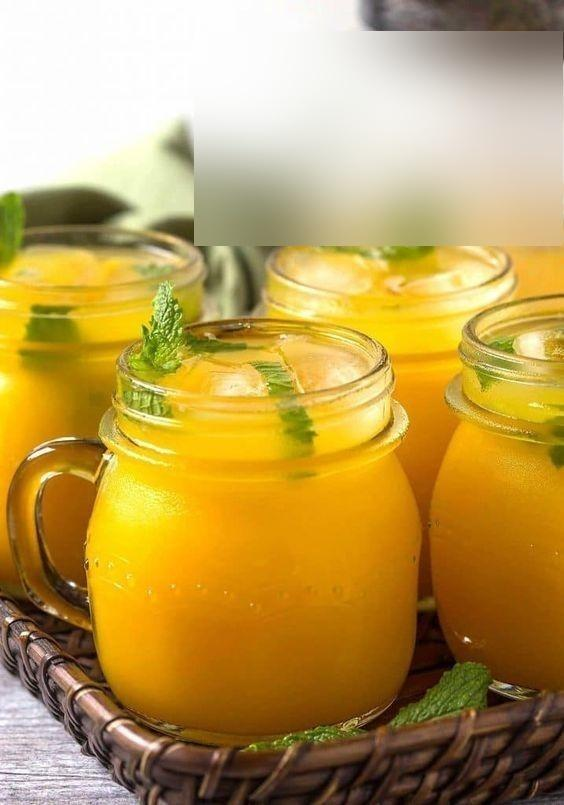glass-mug: (5, 308, 423, 780), (0, 200, 206, 632), (425, 287, 564, 710)
